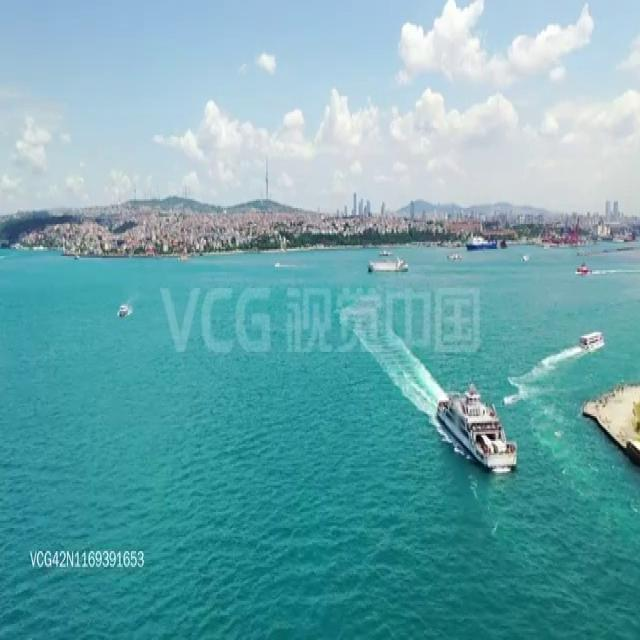houseboat: (117, 299, 132, 320), (574, 261, 593, 276), (447, 250, 462, 260), (521, 252, 530, 266), (380, 247, 392, 257), (272, 262, 281, 268)
passenger ship: (437, 382, 518, 476), (578, 326, 604, 354), (466, 232, 496, 252), (369, 258, 407, 273)
